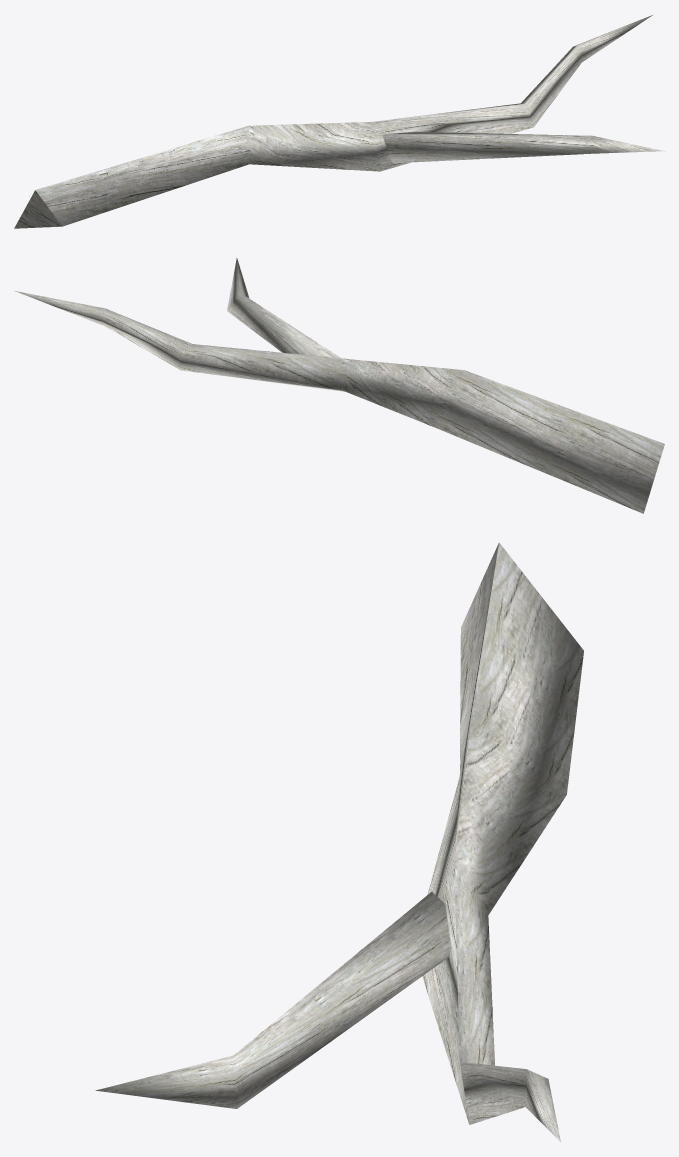
File: shor_driftwood_a1_l2.fbx
The picture shows the model from 3 angles, top to bottom: view 1: azimuth 30°, elevation 25°; view 2: azimuth 150°, elevation 25°; view 3: azimuth 270°, elevation 25°; orthographic projection. The views are drawn at different scales.
Visible parts, largest first — view 1: mesh_node; view 2: mesh_node; view 3: mesh_node.
Boxes of the visible parts, box(x1,y1,x2,y2) form: mesh_node: box(14, 14, 664, 228); mesh_node: box(15, 258, 664, 513); mesh_node: box(95, 542, 583, 1141).
Size of the model in its own units: 6.77 by 0.7423 by 2.26.
